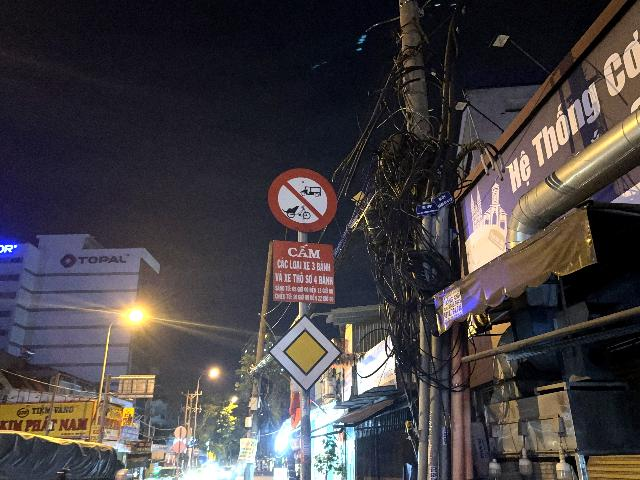bat-dau-duong-uu-tien: (268, 313, 343, 392)
cam-xe-3-banh-xe-tho-so-4-banh: (268, 168, 337, 233)
